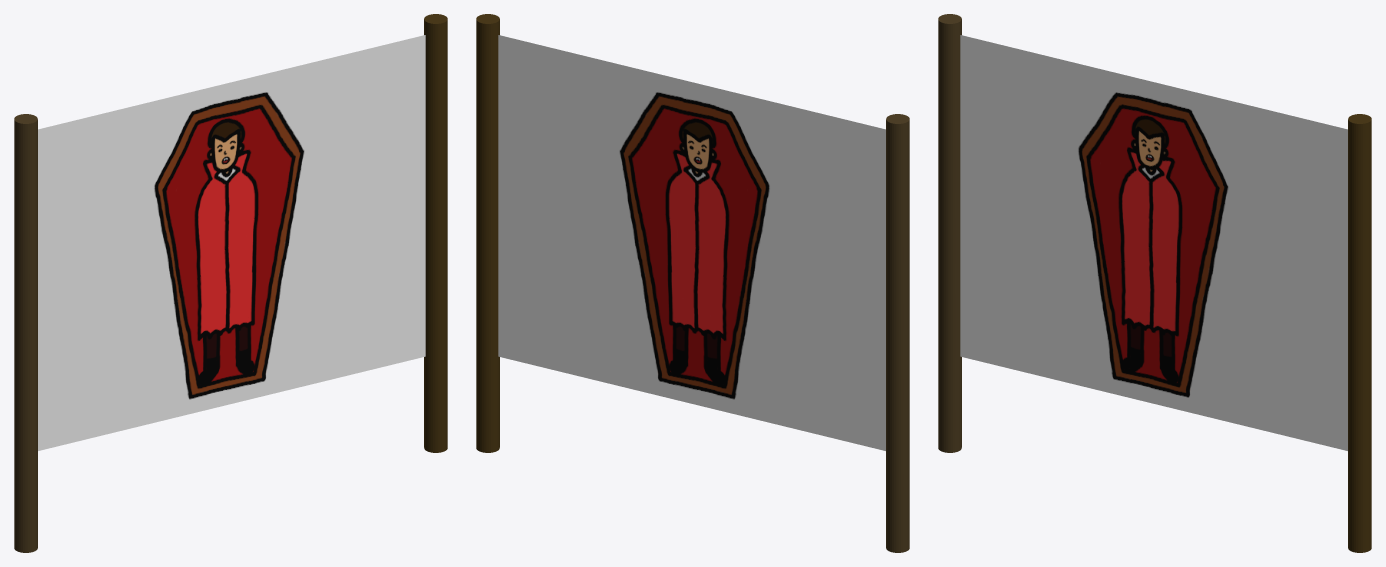
The model's file is Funfact_Romania.glb.
3 views of the same model, side by side, from view 1: azimuth 30°, elevation 25°; view 2: azimuth 150°, elevation 25°; view 3: azimuth 330°, elevation 25° (orthographic).
Visible parts, largest first — view 1: Plane, Cylinder, Cylinder.001; view 2: Plane, Cylinder, Cylinder.001; view 3: Plane, Cylinder.001, Cylinder.
Part boxes in pixels (x1=…): Plane: x1=38, y1=35, x2=425, y2=450; Cylinder: x1=14, y1=114, x2=37, y2=552; Cylinder.001: x1=424, y1=14, x2=447, y2=452; Plane: x1=498, y1=35, x2=885, y2=450; Cylinder: x1=886, y1=114, x2=909, y2=552; Cylinder.001: x1=476, y1=14, x2=499, y2=452; Plane: x1=960, y1=35, x2=1347, y2=450; Cylinder.001: x1=1348, y1=114, x2=1371, y2=552; Cylinder: x1=938, y1=14, x2=961, y2=452.
Size of the model in its own units: 4.2 by 4 by 0.2.
Materials: 3 (1 with a texture image).
